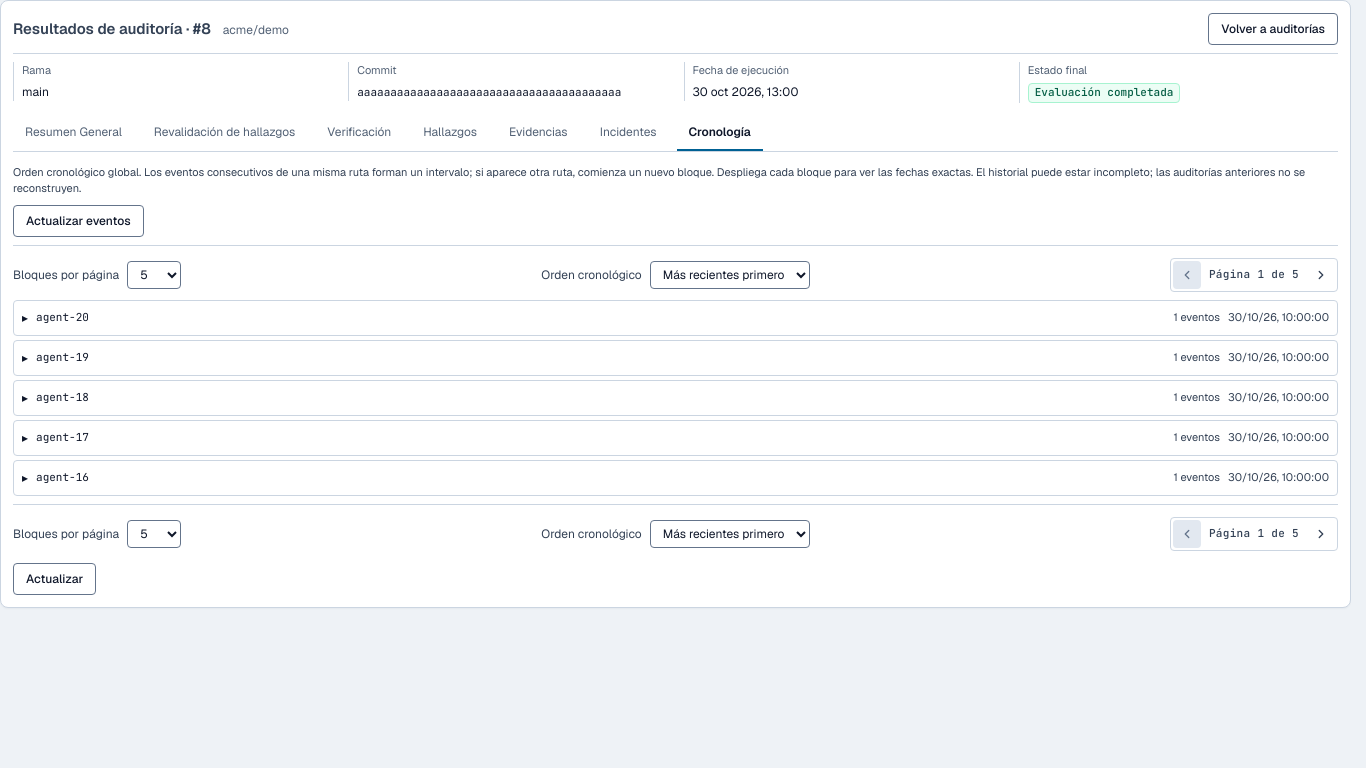
Test: uses incident-style pagination above and below with synchronized page sizes
expect the number of list items is 5: met, box [13,300,1338,336]; [13,340,1338,376]; [13,380,1338,416]; [13,420,1338,456]; [13,460,1338,496]
expect the number of navigation bars named "Páginas de rutas de ejecución" is 2: met, box [1170,258,1338,292]; [1170,516,1338,550]
Click the 1st button named "Página siguiente".
click(1321, 274)  # box [1307,260,1335,288]
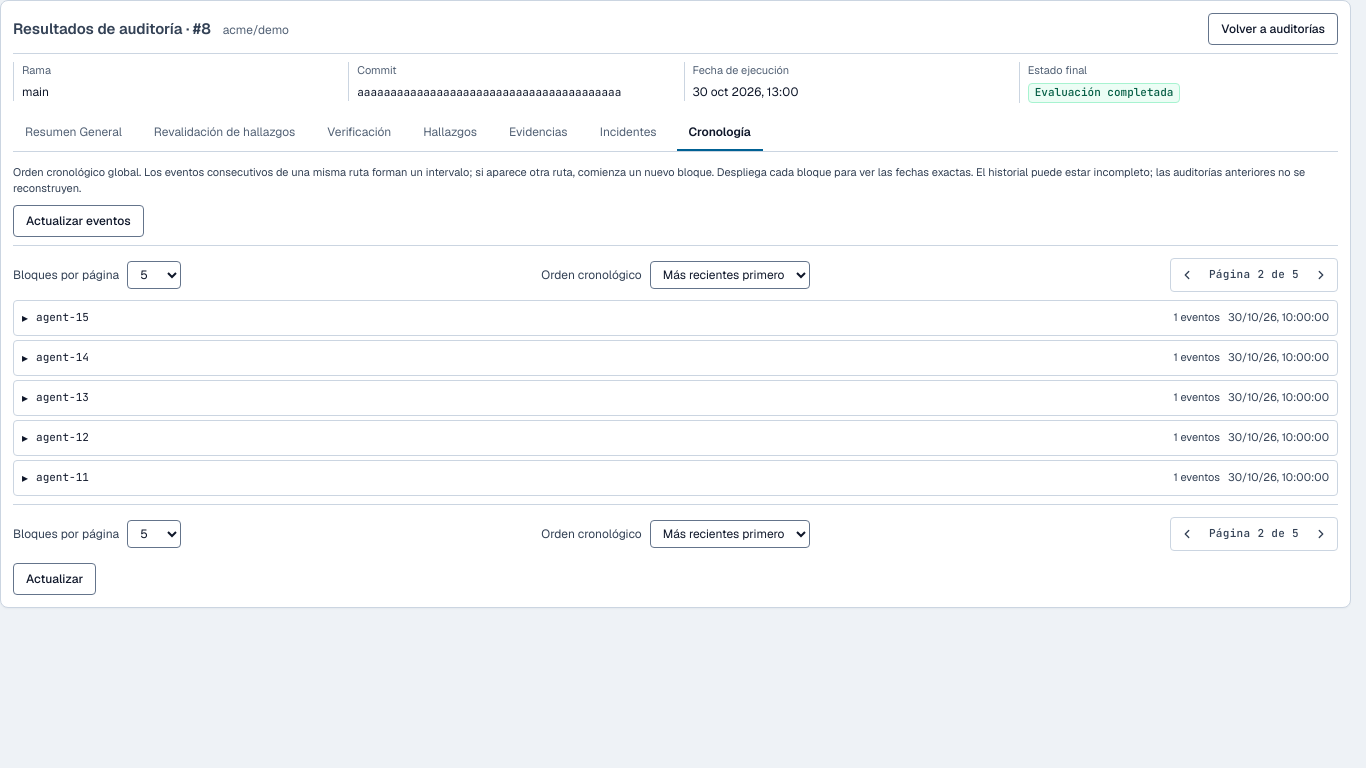
expect the heading "agent-15 1 eventos 30/10/26, 10:00:00" is shown: met, box [22,308,1329,326]
Select "20" in the 2nd dropdown labelled "Bloques por página" at [154, 534], box [127,520,181,548]
(page scrolled)
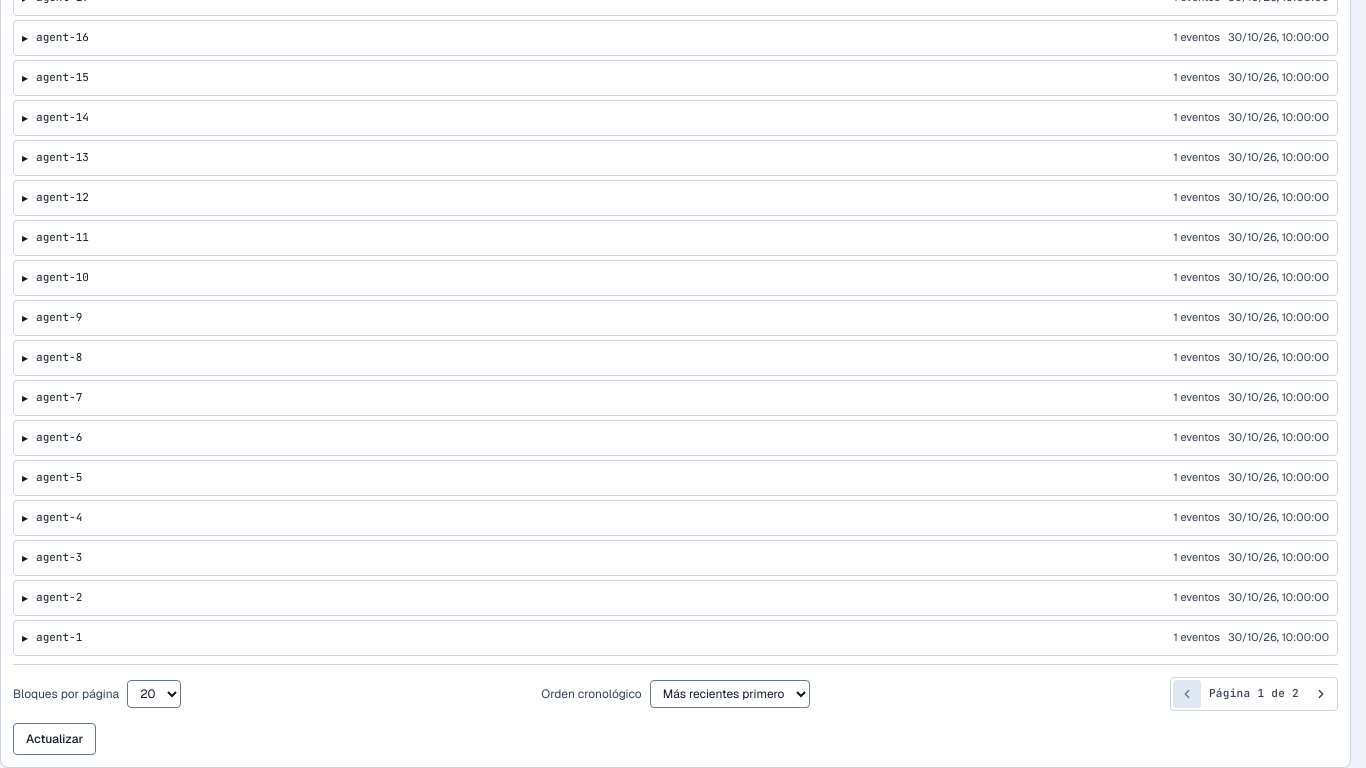
expect the number of list items is 20: met
Click the button named "Página siguiente".
click(1321, 694)  # box [1307,680,1335,708]
(page scrolled)
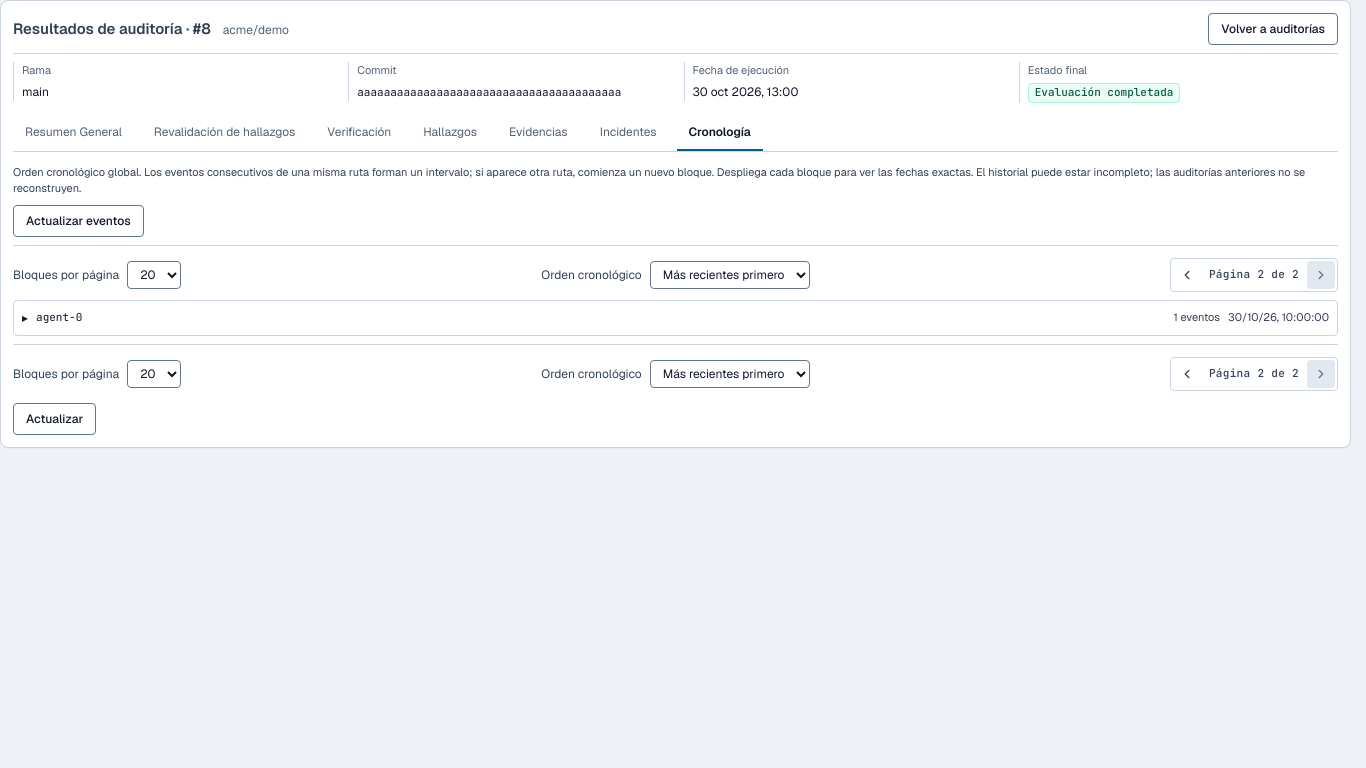
expect the number of list items is 1: met, box [13,300,1338,336]
expect the heading "agent-0 1 eventos 30/10/26, 10:00:00" is shown: met, box [22,308,1329,326]
